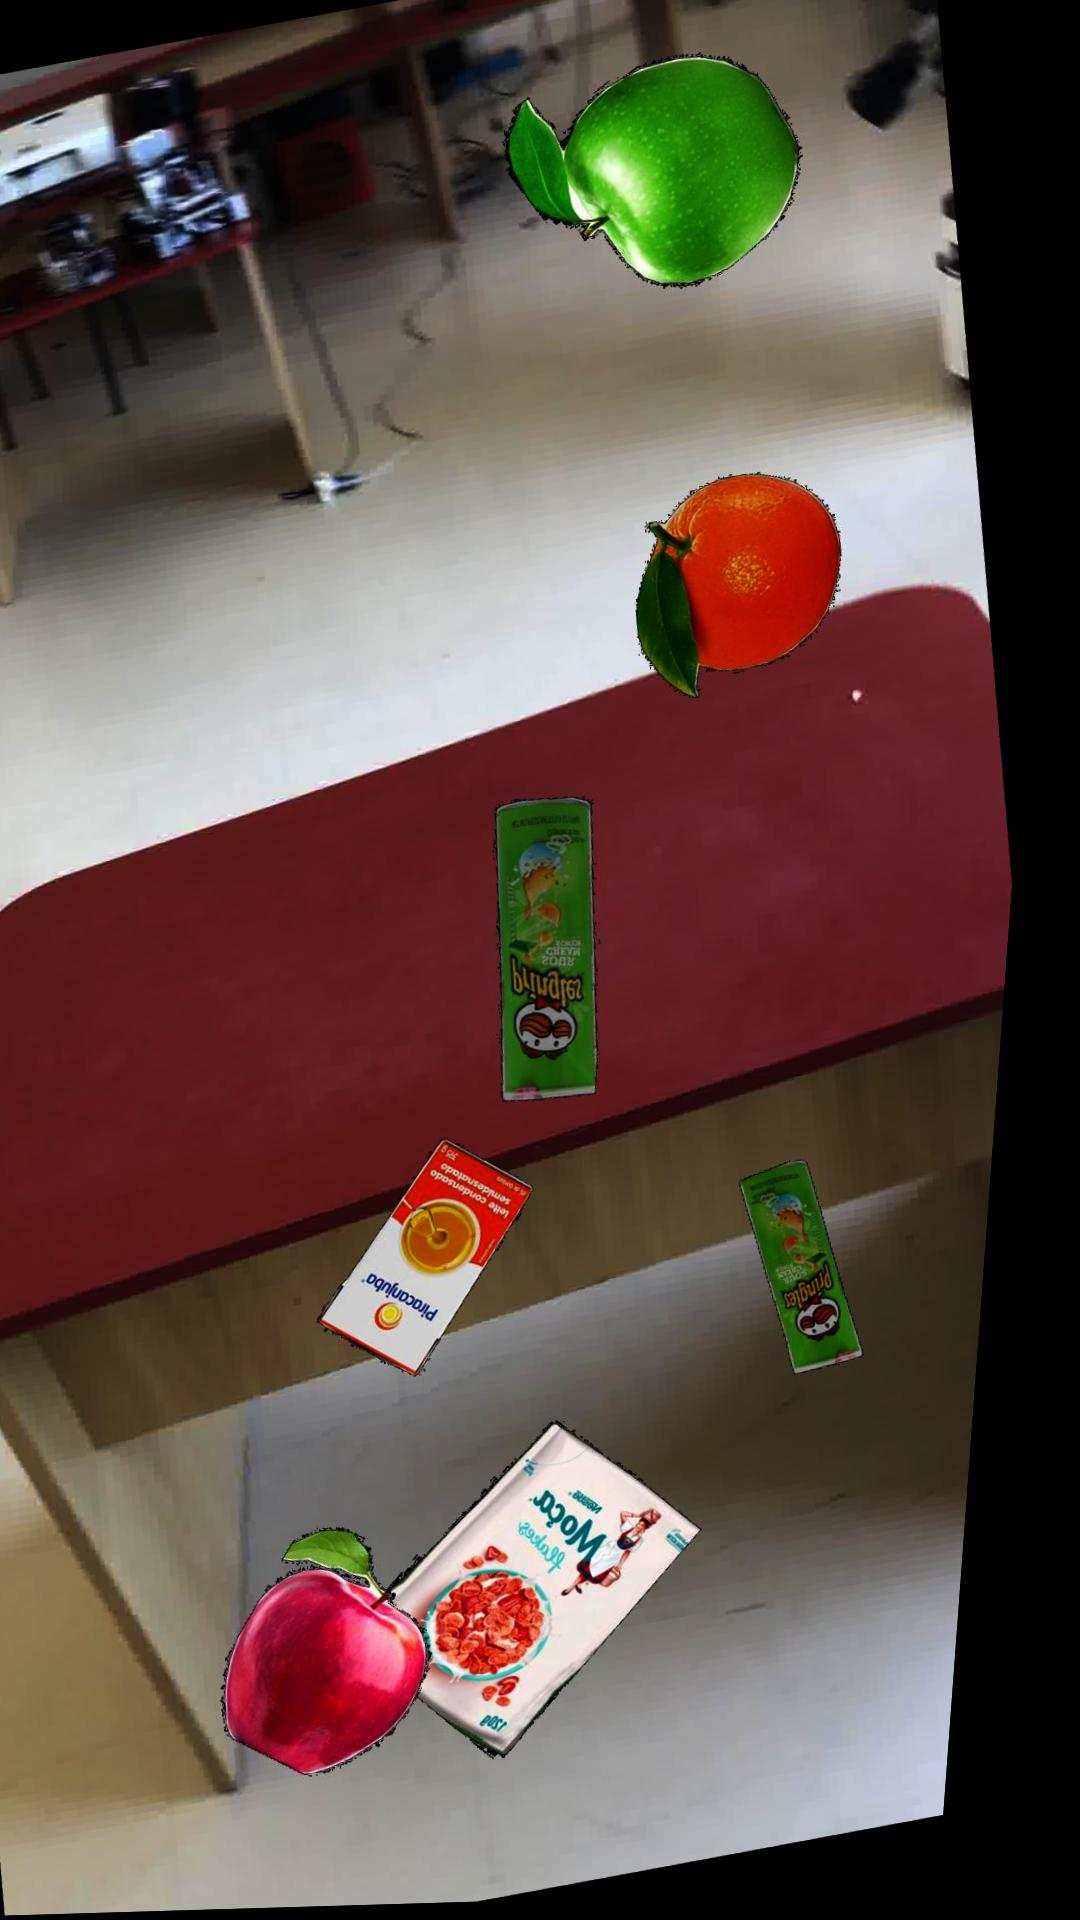apple: (248, 1527, 458, 1774)
corn flakes: (413, 1422, 727, 1759)
green apple: (506, 55, 806, 290)
orange: (646, 475, 851, 700)
pringles: (508, 798, 615, 1102), (758, 1162, 885, 1377)
